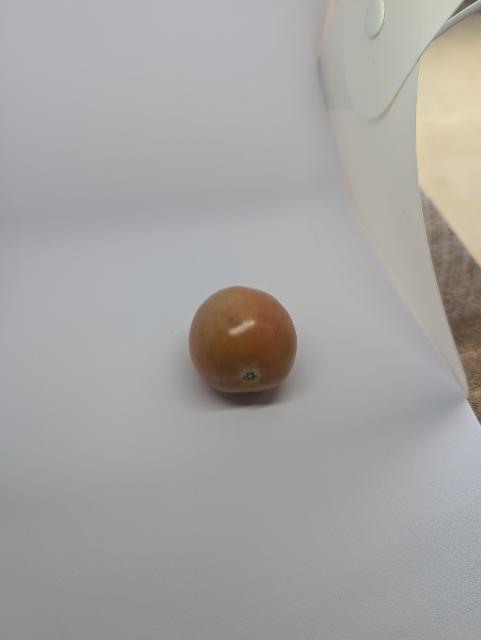turning: (184, 282, 302, 408)
